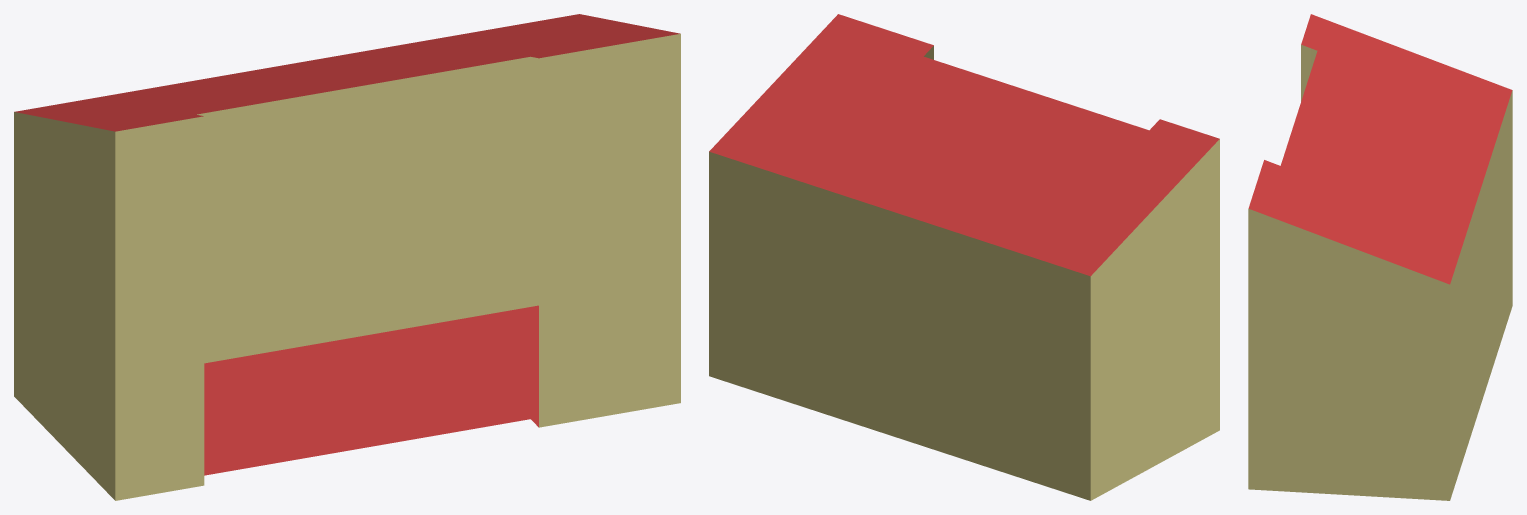
3 renders of one model, left to right at view 1: azimuth 30°, elevation 25°; view 2: azimuth 150°, elevation 25°; view 3: azimuth 270°, elevation 25°, orthographic. The views are drawn at different scales.
Parts seen in each view (by area): view 1: group_4, group_5, group_3; view 2: group_4, group_3; view 3: group_4, group_3.
Part boxes in pixels (x1,y1,x2,y2): group_4: (14, 34, 680, 500); group_5: (65, 305, 538, 475); group_3: (14, 14, 680, 131); group_4: (709, 46, 1219, 500); group_3: (709, 14, 1219, 276); group_4: (1248, 44, 1512, 500); group_3: (1248, 14, 1512, 284).
Size of the model in its own units: 13.45 by 7.28 by 8.54.
